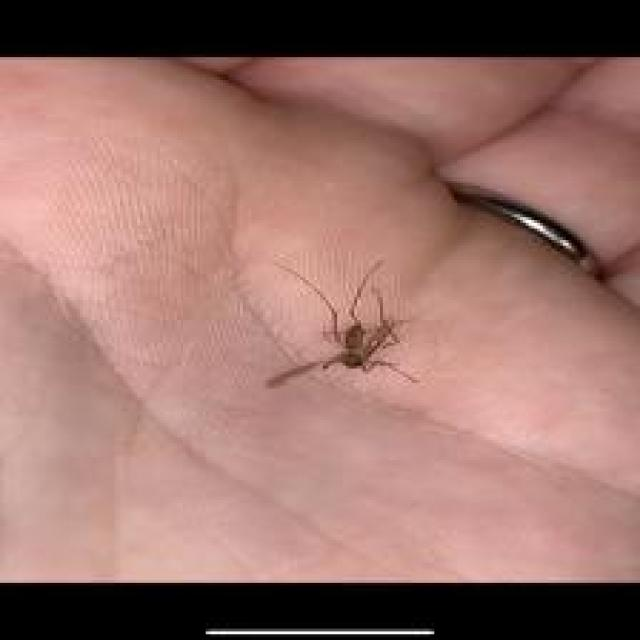Culex: (266, 253, 420, 390)
